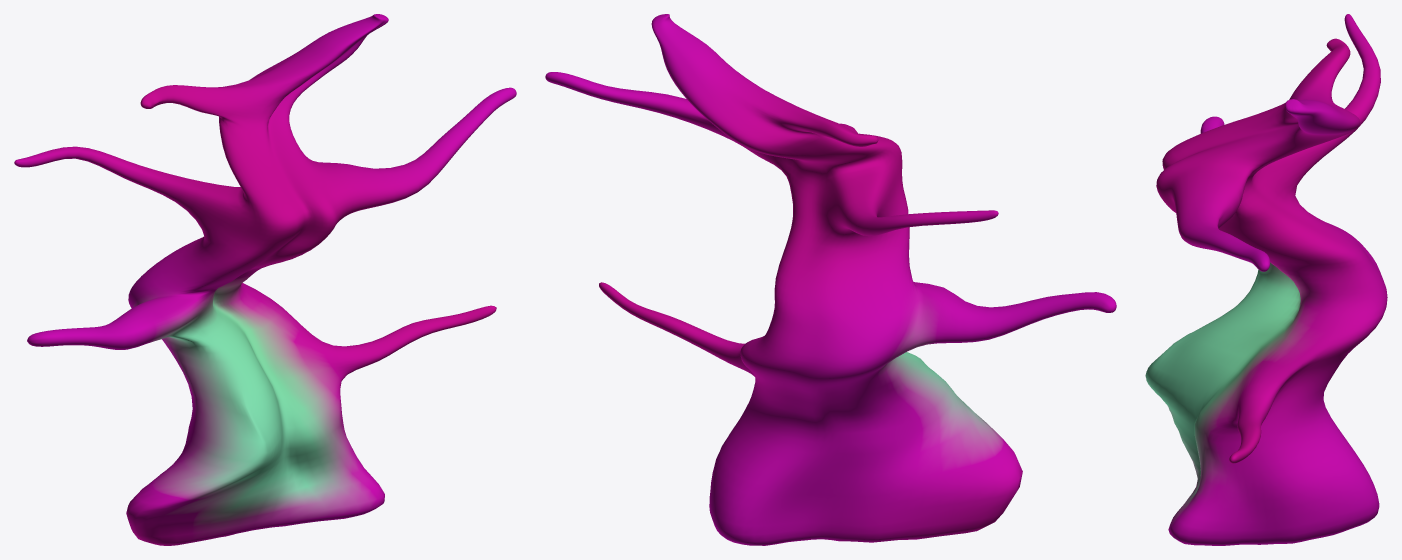
The model's file is ancient-v02.glb.
3 renders of one model, left to right at view 1: azimuth 30°, elevation 25°; view 2: azimuth 150°, elevation 25°; view 3: azimuth 270°, elevation 25°, orthographic. The views are drawn at different scales.
Parts seen in each view (by area): view 1: Continuous aged trunk and primary branches; view 2: Continuous aged trunk and primary branches; view 3: Continuous aged trunk and primary branches.
Part boxes in pixels (box(x1,y1,x2,y2)): Continuous aged trunk and primary branches: box(14, 14, 516, 545); Continuous aged trunk and primary branches: box(545, 14, 1116, 545); Continuous aged trunk and primary branches: box(1145, 14, 1387, 545).
Bounding box in the file's own units: 1.94 × 1.65 × 0.7493.
